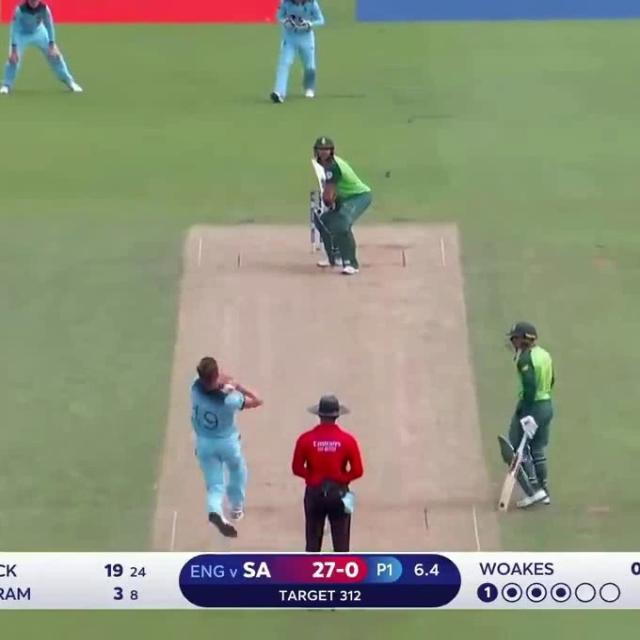bat: (496, 452, 524, 512), (311, 158, 328, 191)
toe: (494, 508, 510, 514)
